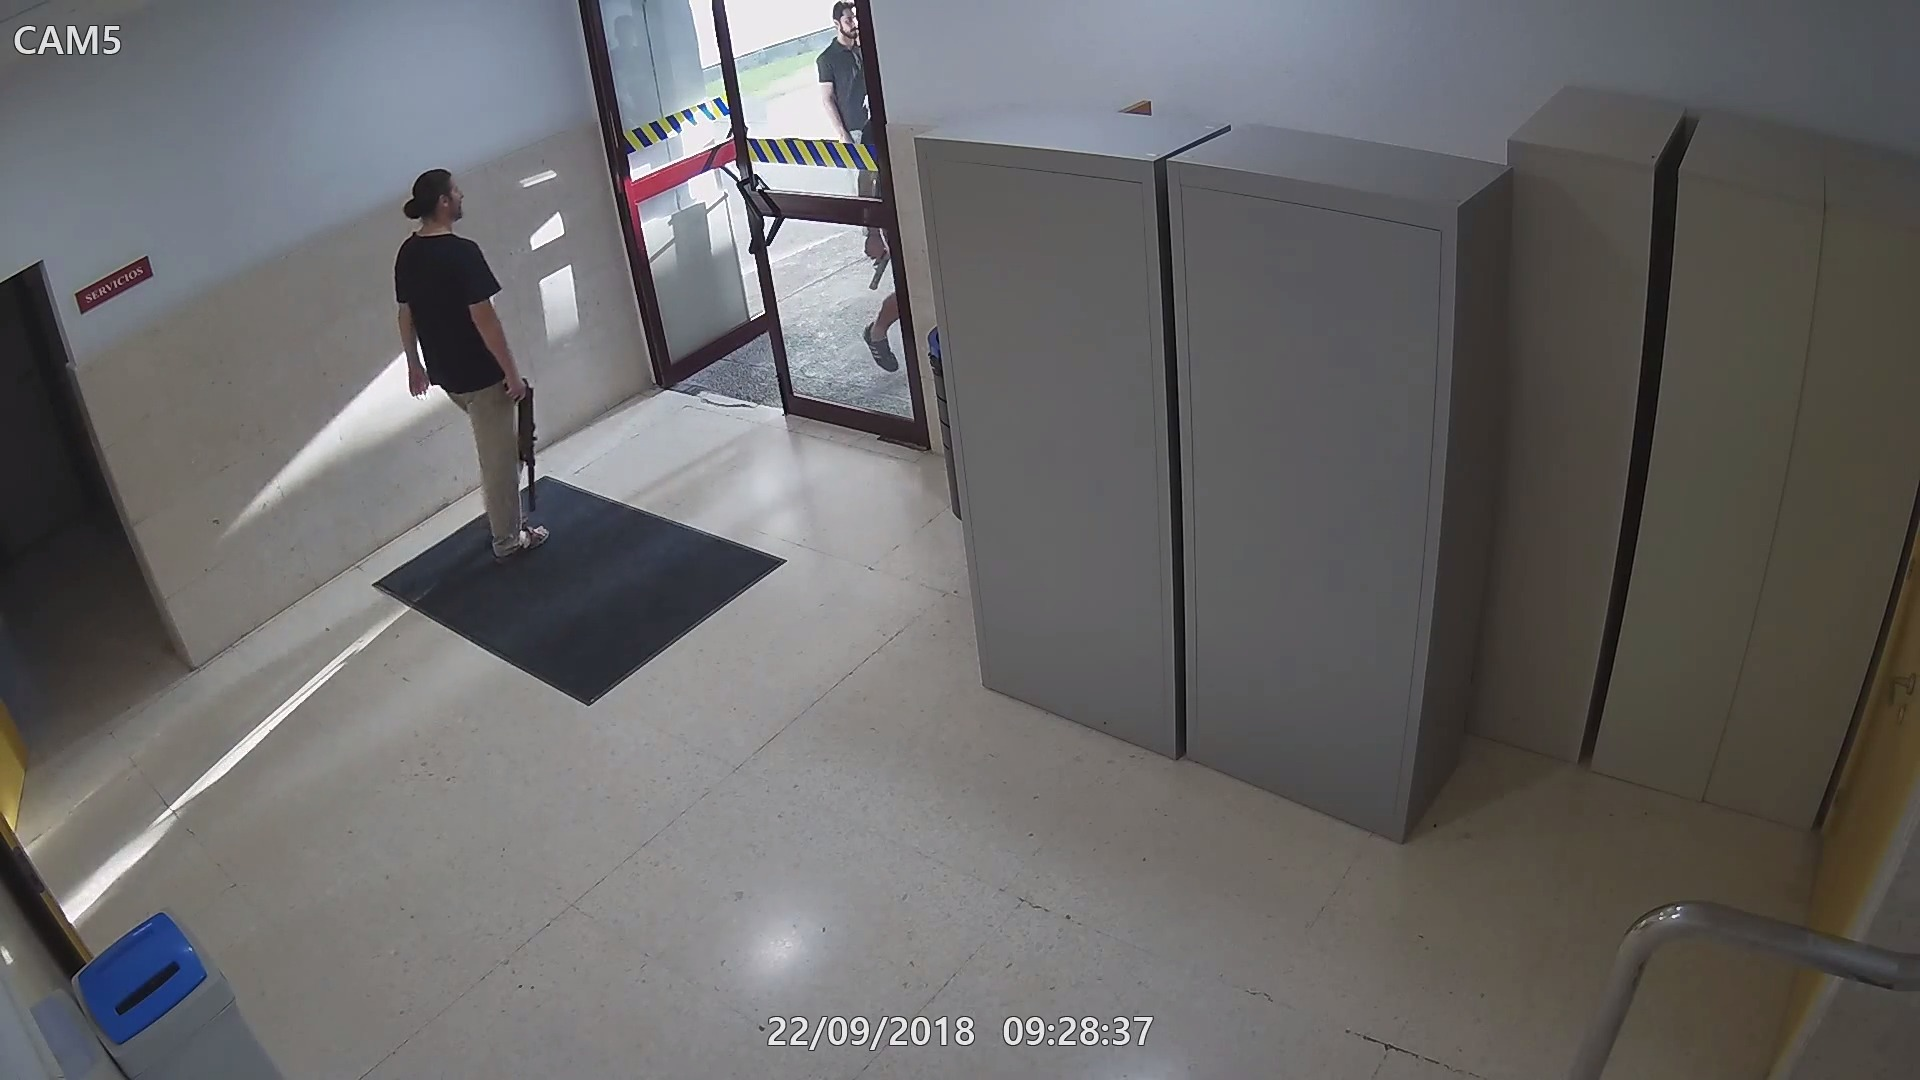Handgun: (860, 239, 891, 291)
Short_rifle: (498, 372, 539, 512)
